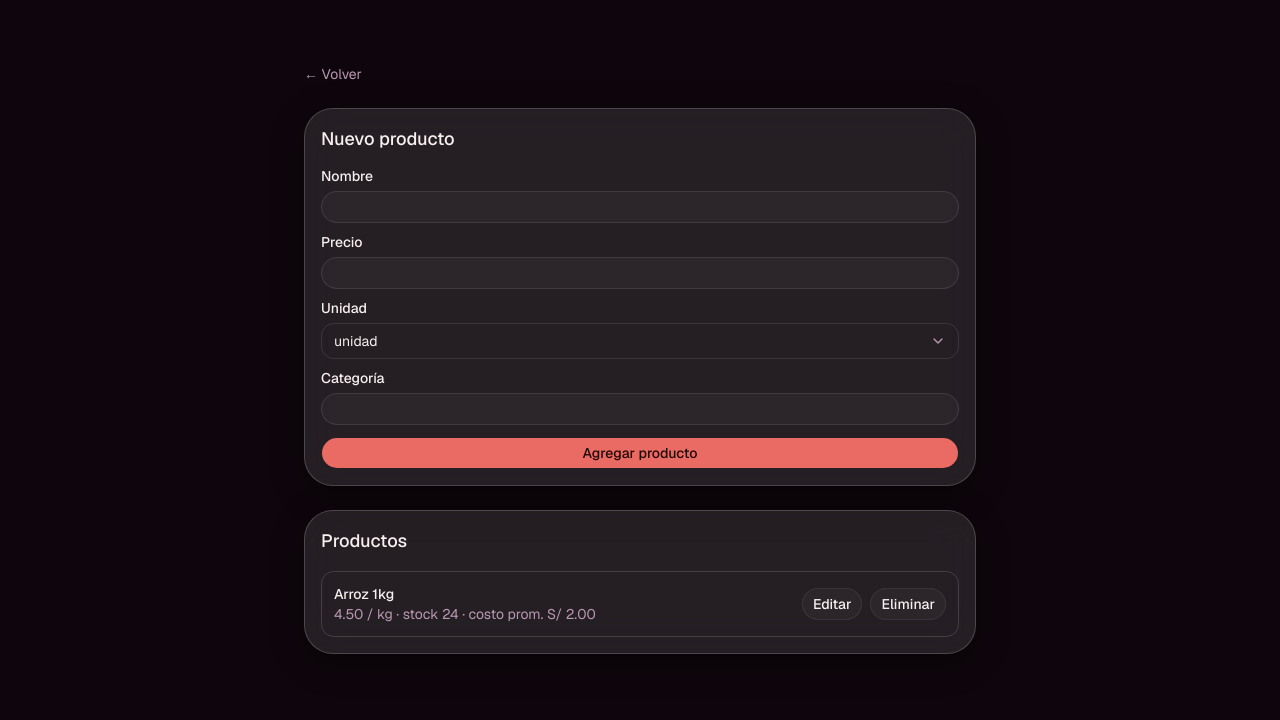
Test: ProductsPage delete flow › deletes and shows a toast when confirmed
Step 1. Click the button "Eliminar" → click(908, 604), box [870, 588, 946, 620]
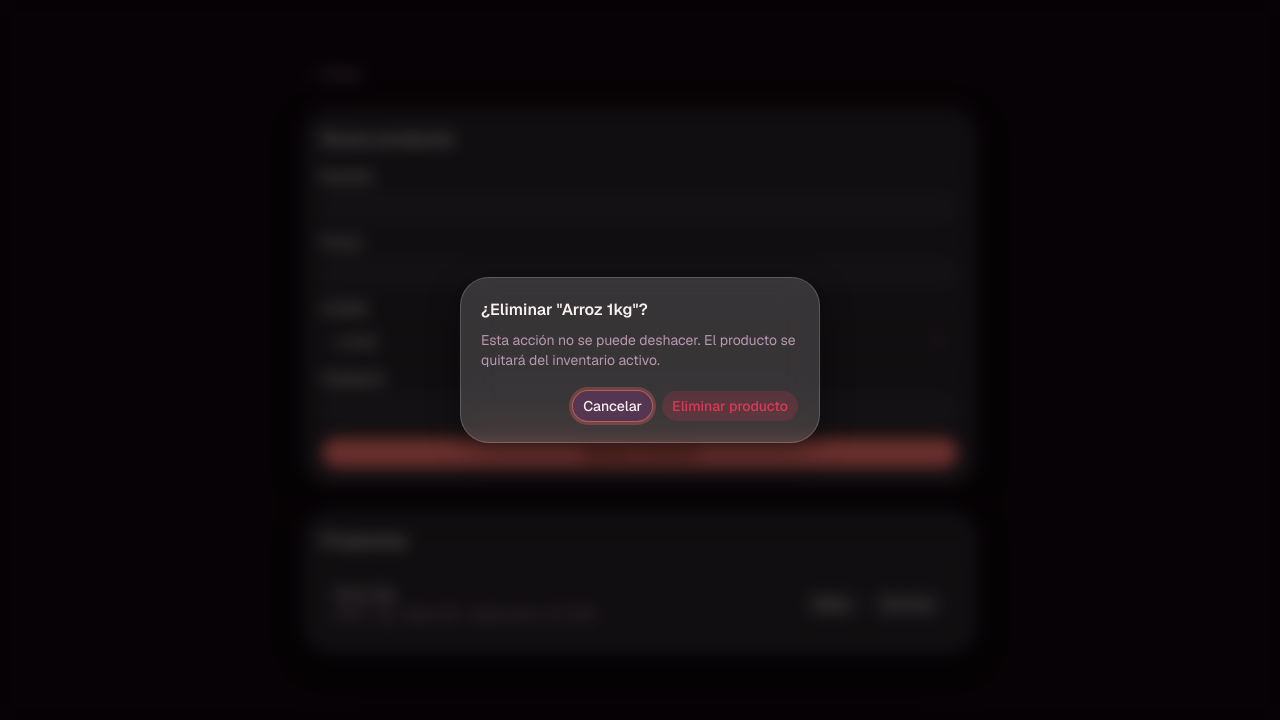
Step 2. Click the button "Eliminar producto" → click(730, 406), box [661, 390, 799, 422]
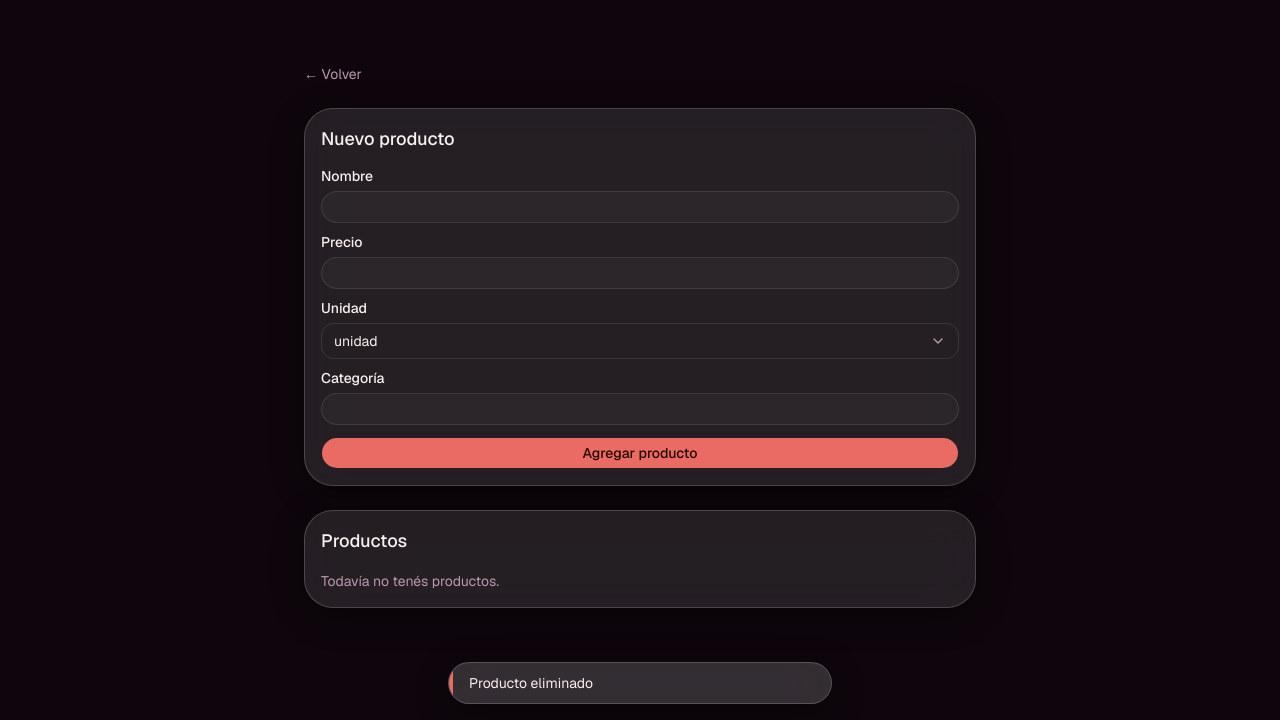
Check: the text "Arroz 1kg" is gone
Check: the text "Producto eliminado" is shown, box [448, 662, 832, 704]
